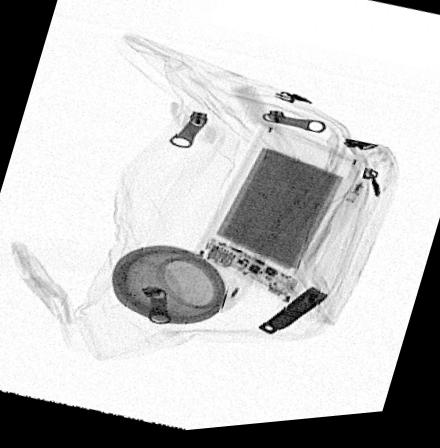Powerbank: (191, 126, 366, 311)
